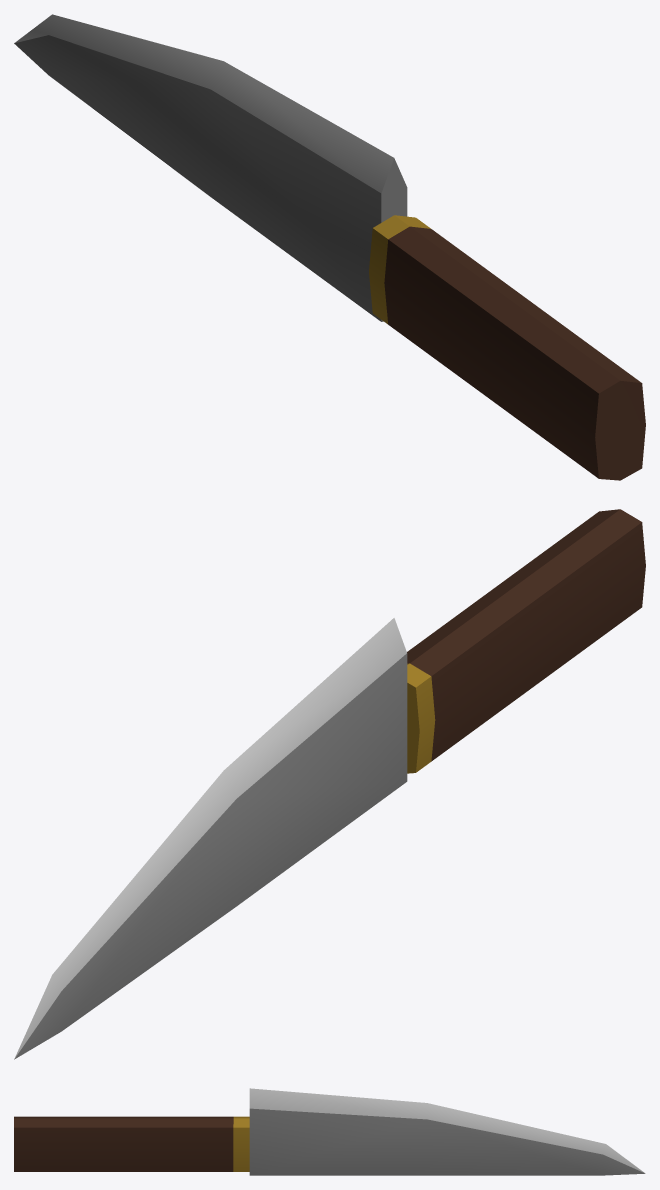
File: Knife 01.FBX
3 renders of one model, top to bottom at view 1: azimuth 30°, elevation 25°; view 2: azimuth 150°, elevation 25°; view 3: azimuth 270°, elevation 25°, orthographic. The views are drawn at different scales.
Visible parts, largest first — view 1: Knife 01; view 2: Knife 01; view 3: Knife 01.
Part boxes in pixels (x1,y1,x2,y2): Knife 01: [14, 14, 645, 480]; Knife 01: [14, 509, 645, 1059]; Knife 01: [14, 1088, 645, 1175].
Bounding box in the file's own units: 5.26 × 16.25 × 109.
